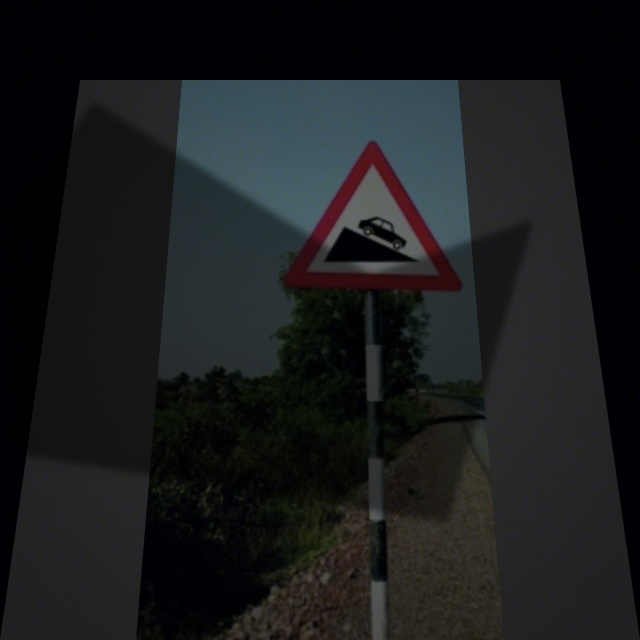Steep_Descent: (288, 141, 462, 297)
